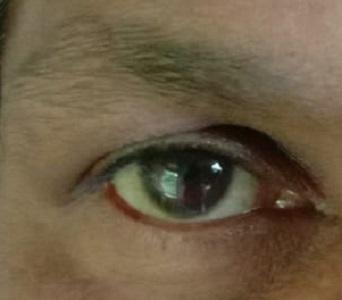open: (62, 107, 325, 279)
